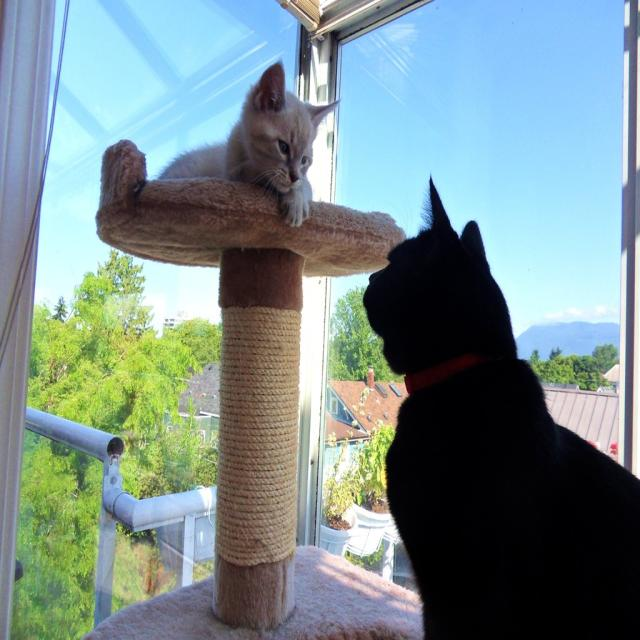Cat: (361, 167, 638, 638), (157, 54, 340, 227)
